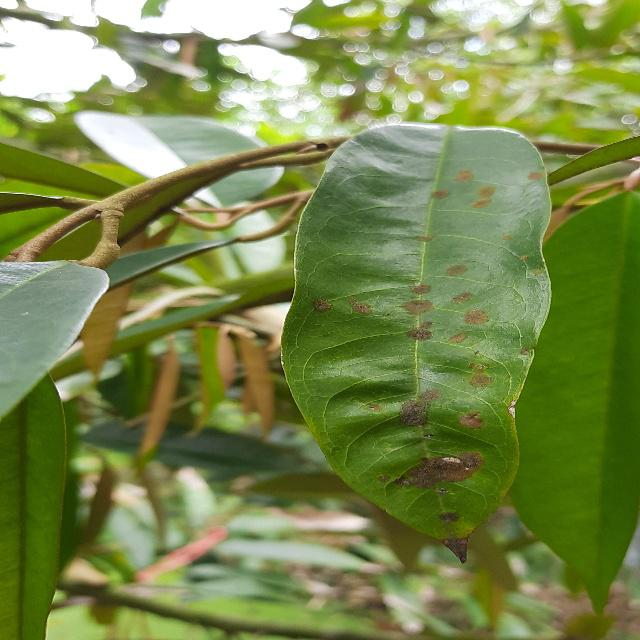Algal Leaf Spot: (273, 115, 558, 571)
